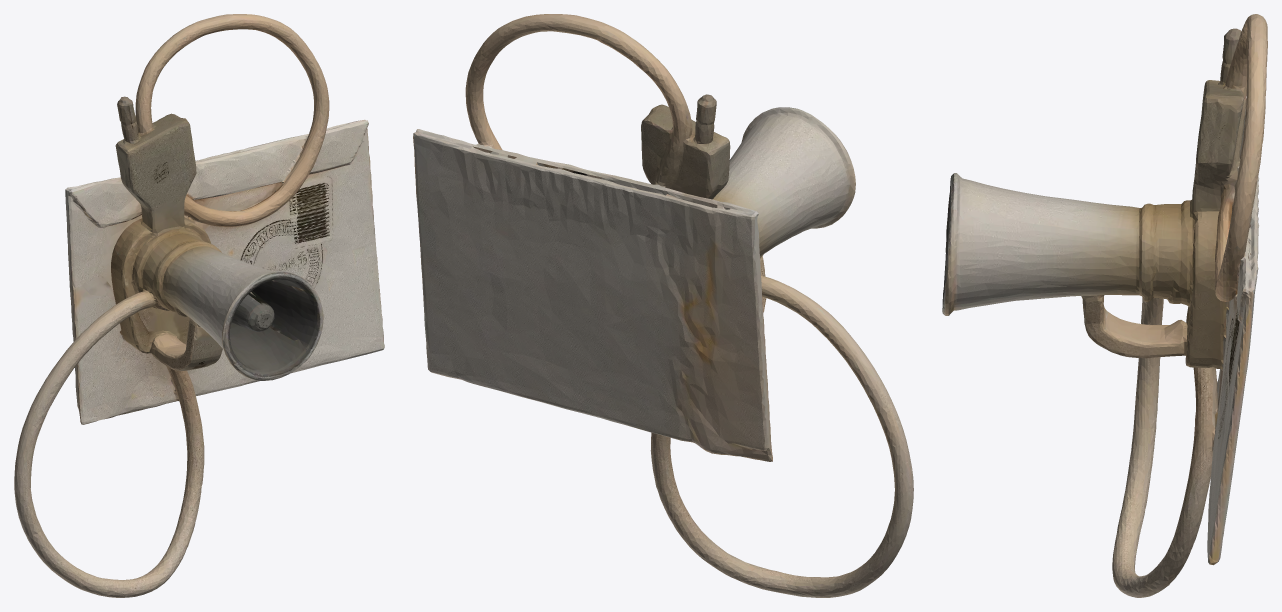
Rendered from chest (254).glb.
3 views of the same model, side by side, from view 1: azimuth 30°, elevation 25°; view 2: azimuth 150°, elevation 25°; view 3: azimuth 270°, elevation 25° (orthographic). The views are drawn at different scales.
Visible parts, largest first — view 1: Hy21_Mesh.obj; view 2: Hy21_Mesh.obj; view 3: Hy21_Mesh.obj.
Part boxes in pixels (bbox=[...]): Hy21_Mesh.obj: bbox=[14, 14, 384, 597]; Hy21_Mesh.obj: bbox=[413, 14, 913, 597]; Hy21_Mesh.obj: bbox=[942, 14, 1267, 597].
Size of the model in its own units: 1.6 by 1.96 by 0.9121.
Materials: 1 (1 with a texture image).
